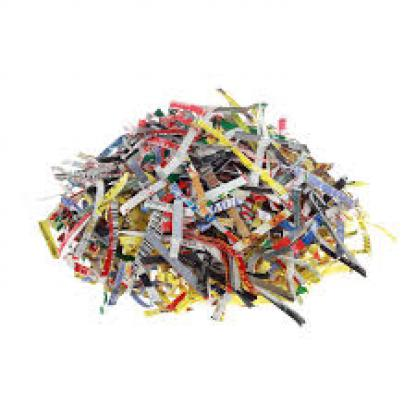paper: (37, 85, 396, 325)
